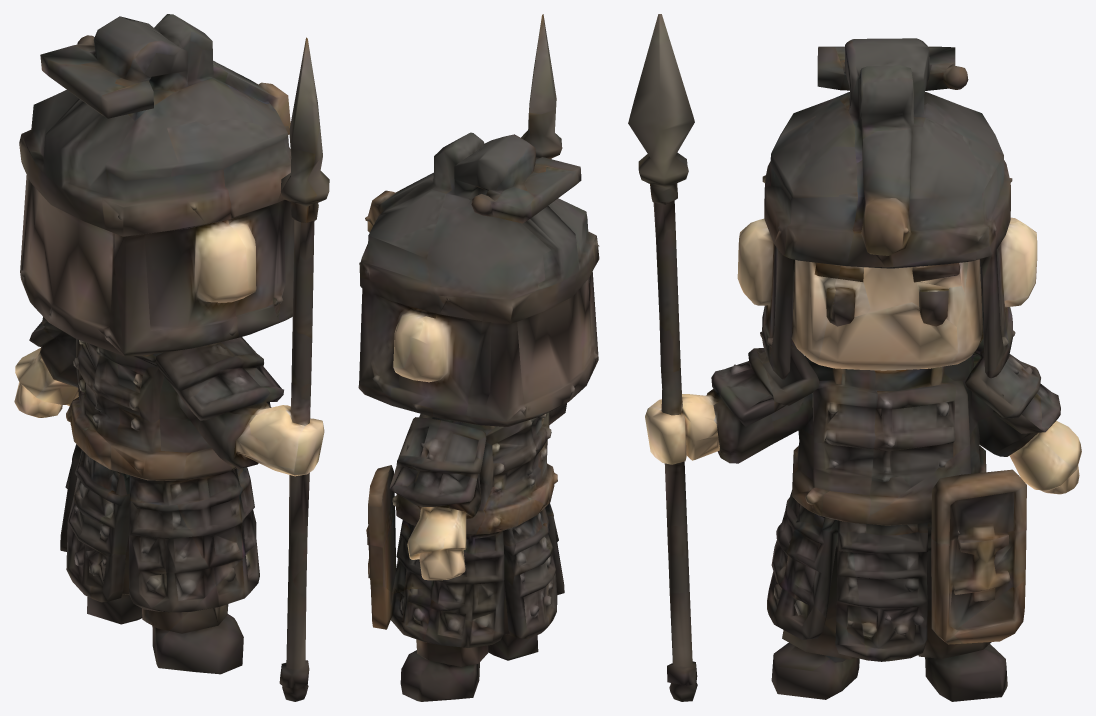
File: fig-soldier.glb
3 renders of one model, left to right at view 1: azimuth 30°, elevation 25°; view 2: azimuth 150°, elevation 25°; view 3: azimuth 270°, elevation 25°, orthographic. The views are drawn at different scales.
Visible parts, largest first — view 1: tripo_node_5a0ec53d-d586-45b5-8e3e-5e143707159e; view 2: tripo_node_5a0ec53d-d586-45b5-8e3e-5e143707159e; view 3: tripo_node_5a0ec53d-d586-45b5-8e3e-5e143707159e.
Part boxes in pixels (<box>): tripo_node_5a0ec53d-d586-45b5-8e3e-5e143707159e: <box>14,14,329,701</box>; tripo_node_5a0ec53d-d586-45b5-8e3e-5e143707159e: <box>358,14,599,701</box>; tripo_node_5a0ec53d-d586-45b5-8e3e-5e143707159e: <box>628,14,1081,701</box>.
Bounding box in the file's own units: 0.3644 × 0.9991 × 0.5975.
1 material, 1 textured.
